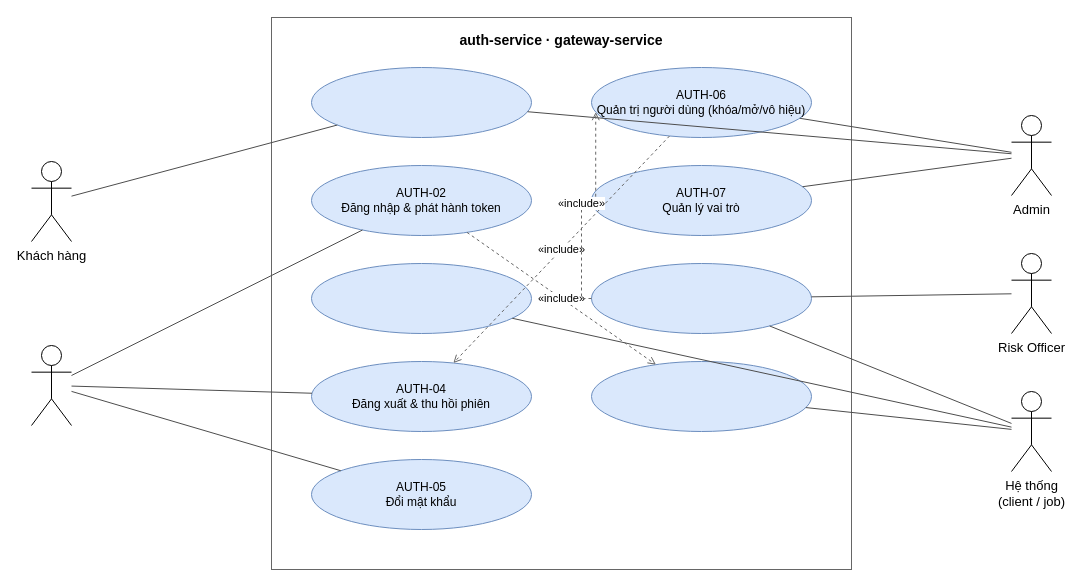
Some shapes in this 1082 by 587 pixel diagram are drawn without their labels. Here are the shapes that lost their labels. From the top down, the box of each, then its label:
(310, 66, 532, 138): AUTH-01 Đăng ký người dùng
(310, 262, 532, 334): AUTH-03 Làm mới phiên (rotation)
(590, 262, 812, 334): AUTH-08 Giám sát đăng nhập, phát hiện dò tài khoản
(30, 344, 72, 426): Người dùng (mọi vai trò)
(590, 360, 812, 432): AUTH-09 Xác thực & định tuyến tại gateway
